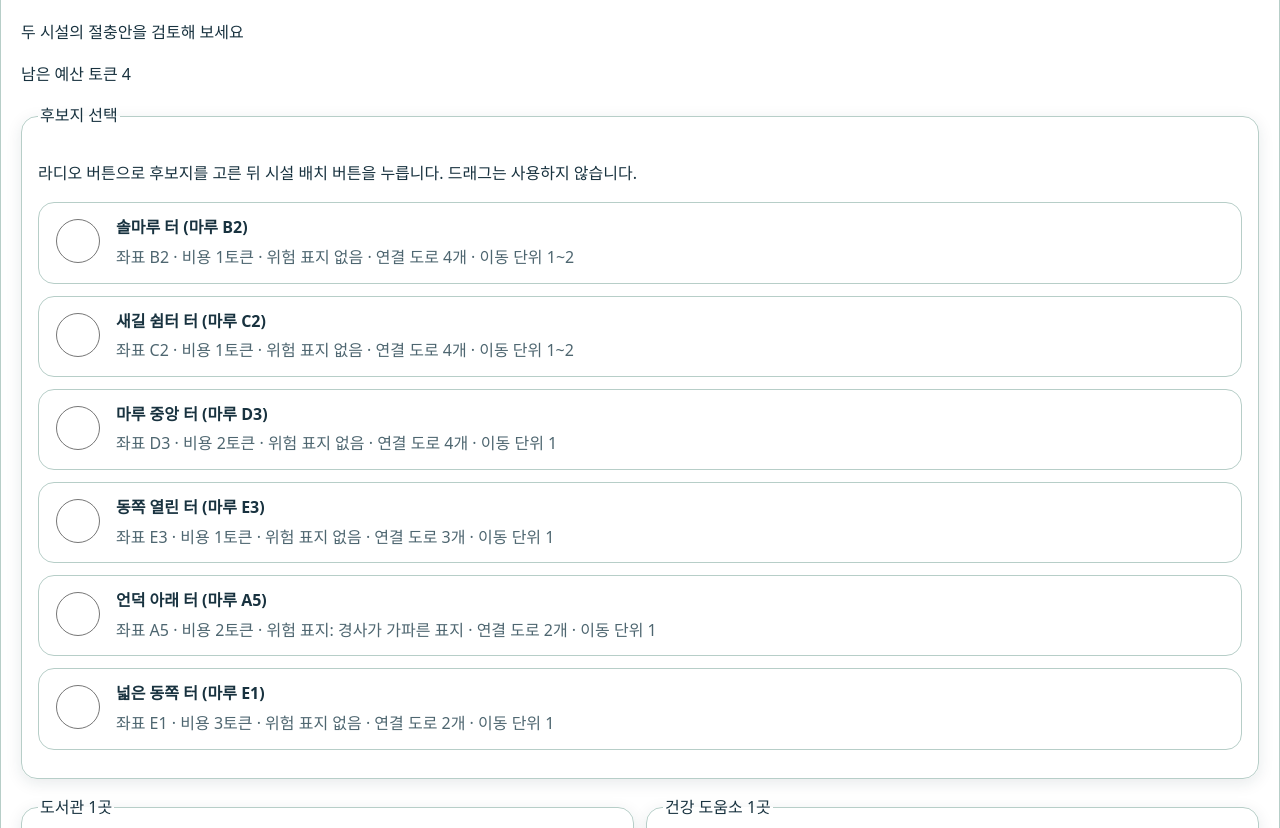
Test: FacilityPlacementPanel › explains and prevents a used or over-budget candidate
Click the 1st radio button: (78, 242) [56,220,100,264]
(page scrolled)
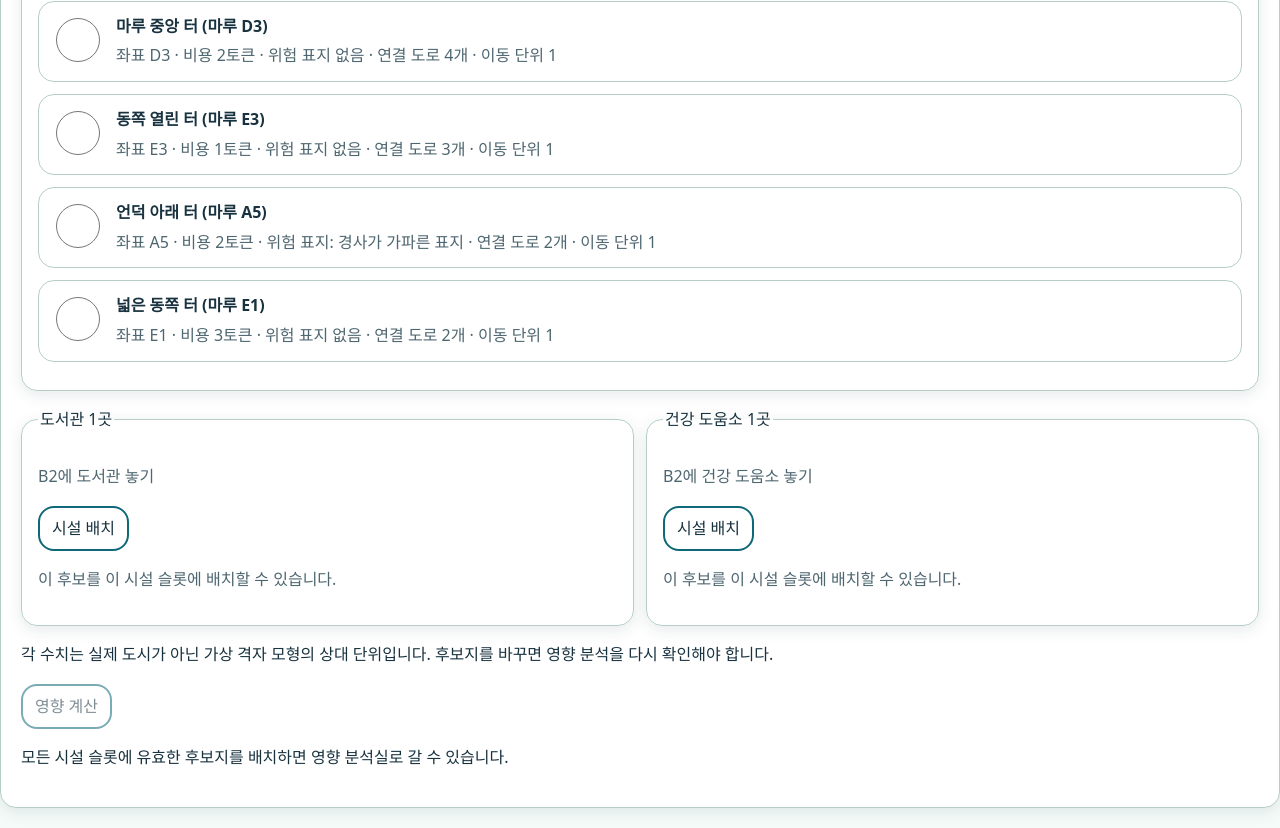
Click the button with aria-label "도서관 1곳 시설 배치": (84, 529) [38,506,129,551]
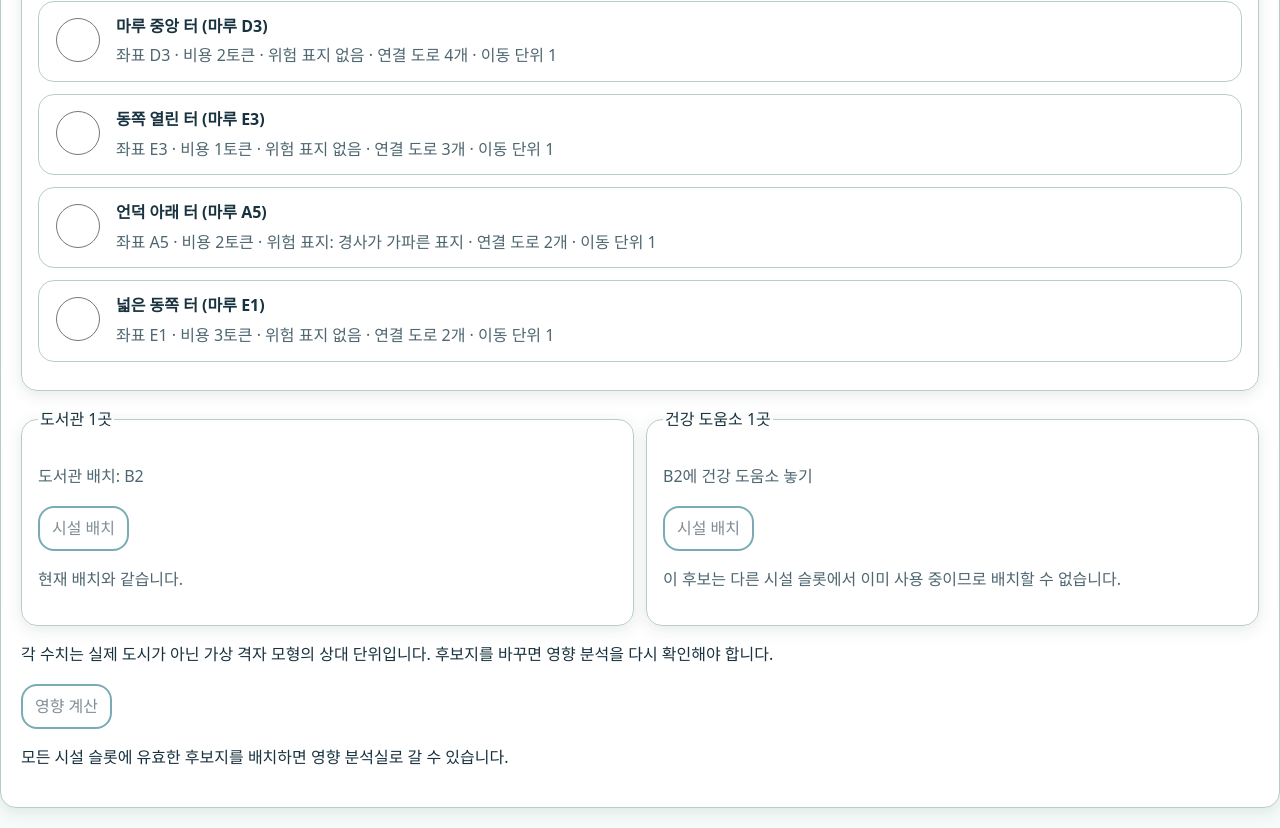
Check: the button with aria-label "도서관 1곳 시설 배치" is disabled, box [38,506,129,551]
Check: the button with aria-label "건강 도움소 1곳 시설 배치" is disabled, box [663,506,754,551]
Check: the text "이 후보는 다른 시설 슬롯에서 이미 사용 중이므로 배치할 수 없습니다." is shown, box [663,568,1121,590]
